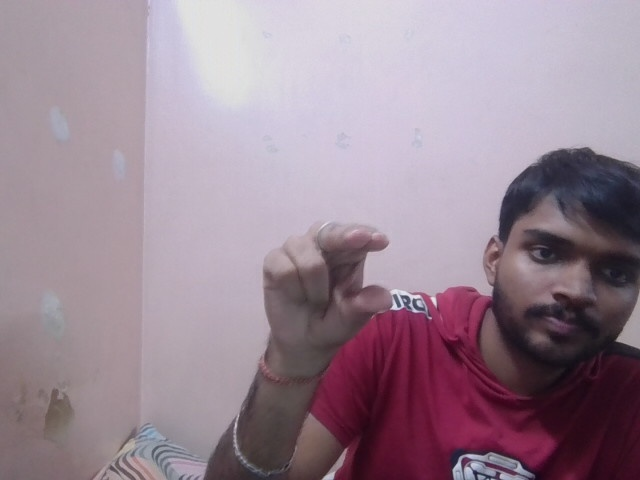No: (256, 199, 399, 350)
